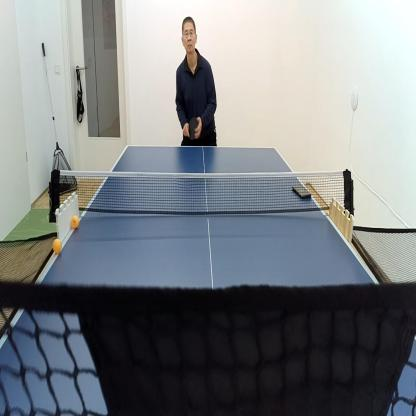Ball: (52, 238, 62, 254), (70, 215, 80, 230)
